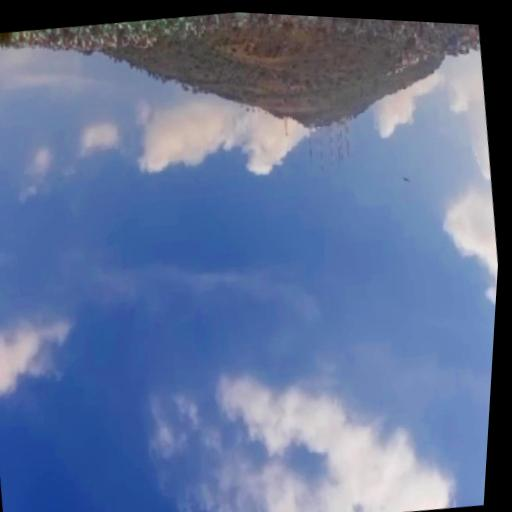drones: (397, 170, 418, 191)
